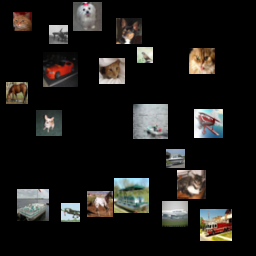airplane: (194, 109, 223, 138), (162, 201, 188, 227), (61, 203, 80, 222), (49, 25, 68, 44)
automobile: (43, 52, 78, 87)
bird: (137, 47, 153, 63)
cat: (177, 170, 206, 199), (189, 48, 215, 74), (99, 58, 125, 84), (13, 12, 32, 31)
dog: (73, 2, 102, 31), (116, 18, 142, 44), (36, 110, 62, 136)
ship: (114, 178, 149, 213), (133, 104, 168, 139), (17, 189, 49, 221), (166, 149, 185, 168)
